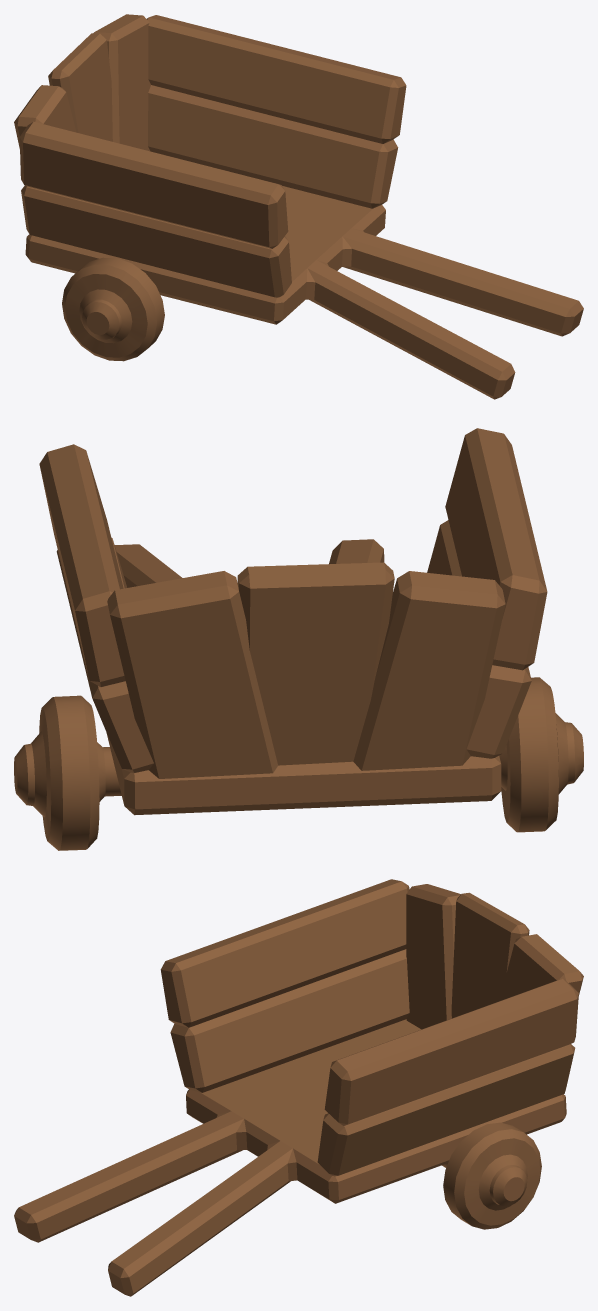
File: cart-compressed.glb
3 views of the same model, one above another, from view 1: azimuth 30°, elevation 25°; view 2: azimuth 150°, elevation 25°; view 3: azimuth 270°, elevation 25° (orthographic). The views are drawn at different scales.
Parts seen in each view (by area): view 1: cart; view 2: cart; view 3: cart.
Boxes of the visible parts, x1,y1,x2,y2 form: cart: (14, 14, 583, 399); cart: (14, 428, 583, 850); cart: (14, 879, 583, 1296).
Size of the model in its own units: 2.47 by 1.25 by 2.77.
